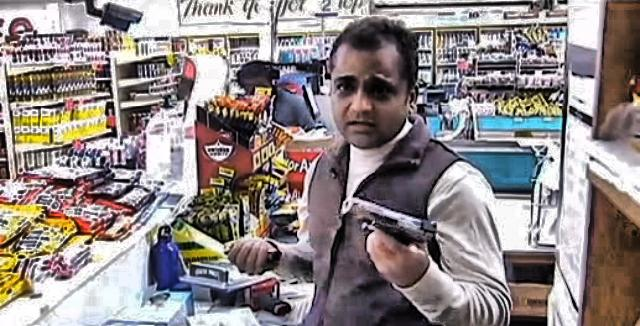pistol: (338, 194, 444, 248)
